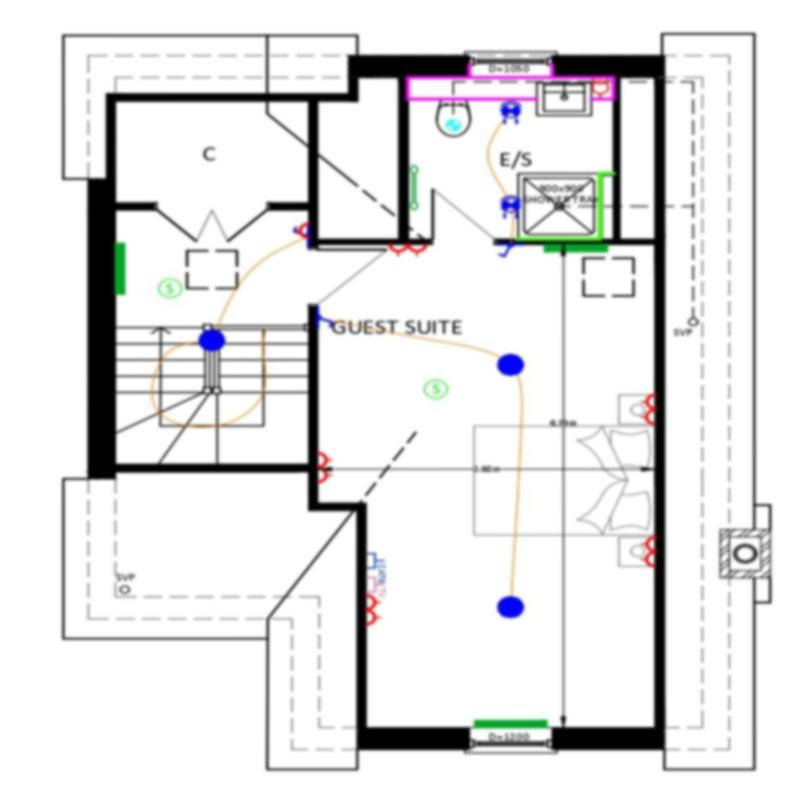Cat 6 Data Socket: (367, 553, 385, 576)
Ceiling Mounted Continuous Extract FanWith Boost Mode Activated By Light Switch: (446, 118, 461, 132)
Double Socket: (387, 242, 428, 258), (638, 392, 654, 428), (366, 593, 382, 627), (318, 451, 334, 484), (639, 535, 655, 567)
Full Height Tiling: (517, 172, 614, 242)
Light Switch: (317, 313, 333, 331), (294, 225, 310, 241), (496, 244, 513, 258)
Low Energy Downlighter: (498, 192, 521, 220), (501, 100, 520, 126)
Low Energy Pendant Light: (495, 595, 524, 619), (196, 329, 226, 351), (497, 353, 524, 377)
Mains Wired Smoke Detector: (156, 277, 183, 299), (423, 379, 449, 399)
Radiator: (473, 719, 548, 728), (544, 243, 608, 253), (115, 242, 125, 295)
Shaver Socket: (591, 78, 610, 99)
Single Socket: (292, 223, 308, 239)
TV & Satellite Multisocket: (363, 576, 384, 592)
